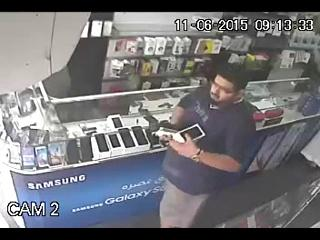shoplifting: (157, 61, 258, 227)
